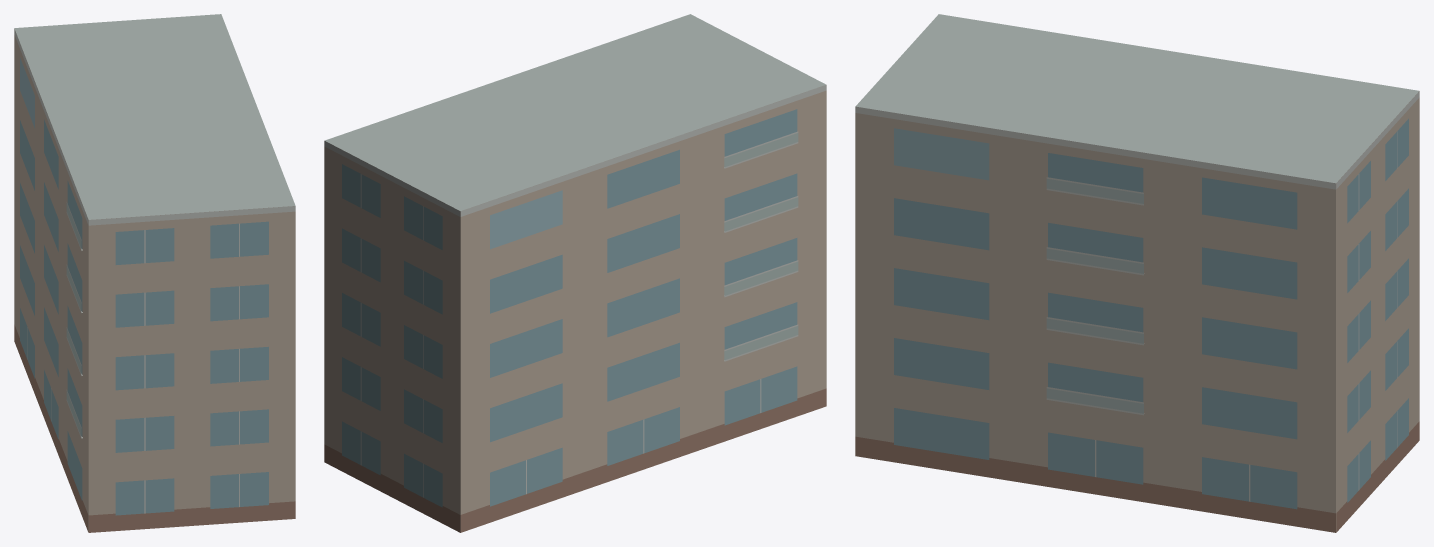
The model's file is survey-upis-32877579.glb.
3 renders of one model, left to right at view 1: azimuth 30°, elevation 25°; view 2: azimuth 150°, elevation 25°; view 3: azimuth 270°, elevation 25°, orthographic. The views are drawn at different scales.
Visible parts, largest first — view 1: survey-upis-32877579.tmp; view 2: survey-upis-32877579.tmp; view 3: survey-upis-32877579.tmp.
Boxes of the visible parts, x1,y1,x2,y2 form: survey-upis-32877579.tmp: [14, 14, 295, 532]; survey-upis-32877579.tmp: [324, 14, 826, 532]; survey-upis-32877579.tmp: [855, 14, 1419, 532].
Bounding box in the file's own units: 13.98 × 13.45 × 19.69.
